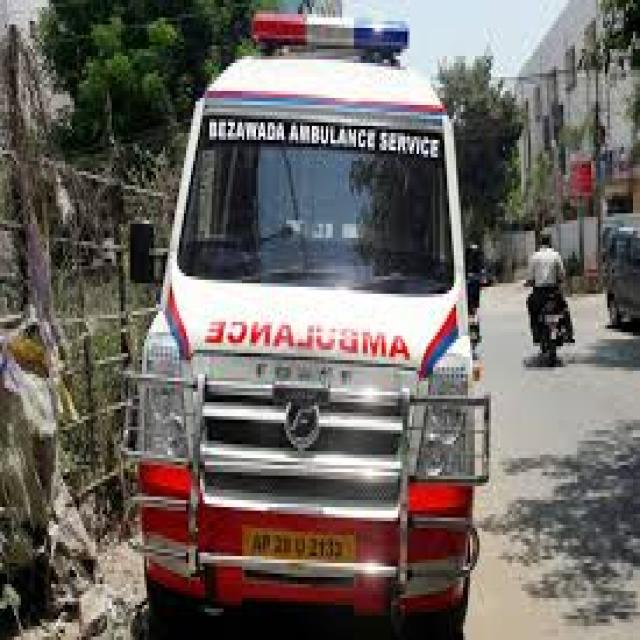Ambulance: (129, 7, 499, 640)
